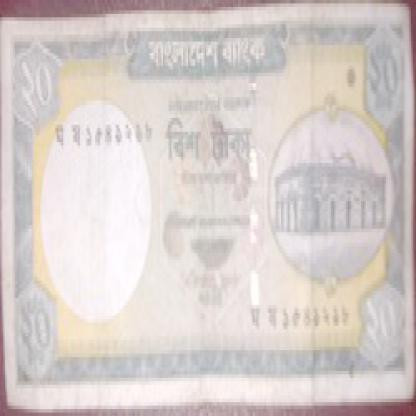Twenty: (351, 24, 408, 132), (165, 114, 263, 170), (13, 48, 72, 138), (354, 284, 408, 361)
